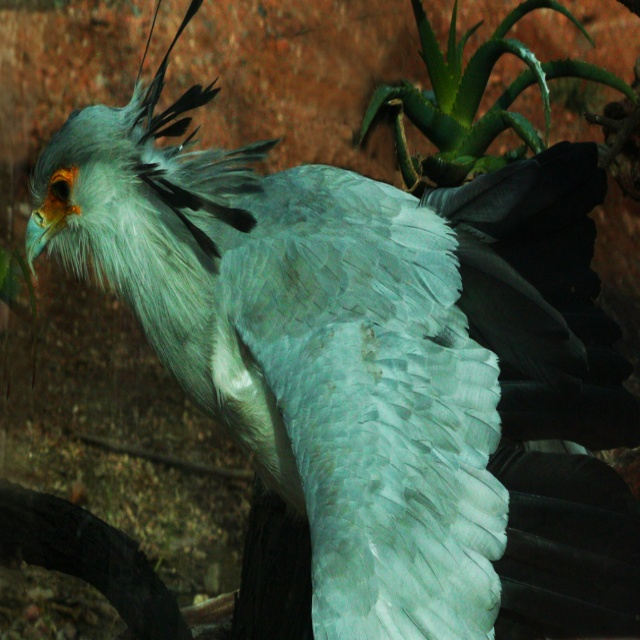Parrot: (26, 0, 640, 639)
